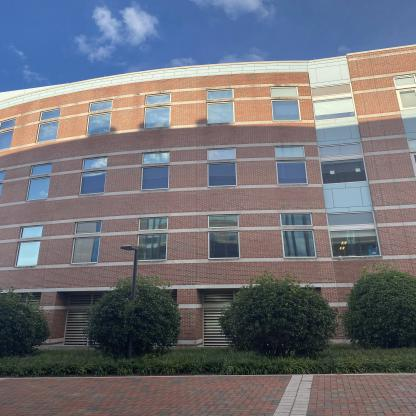EB-1: (6, 74, 415, 323)
